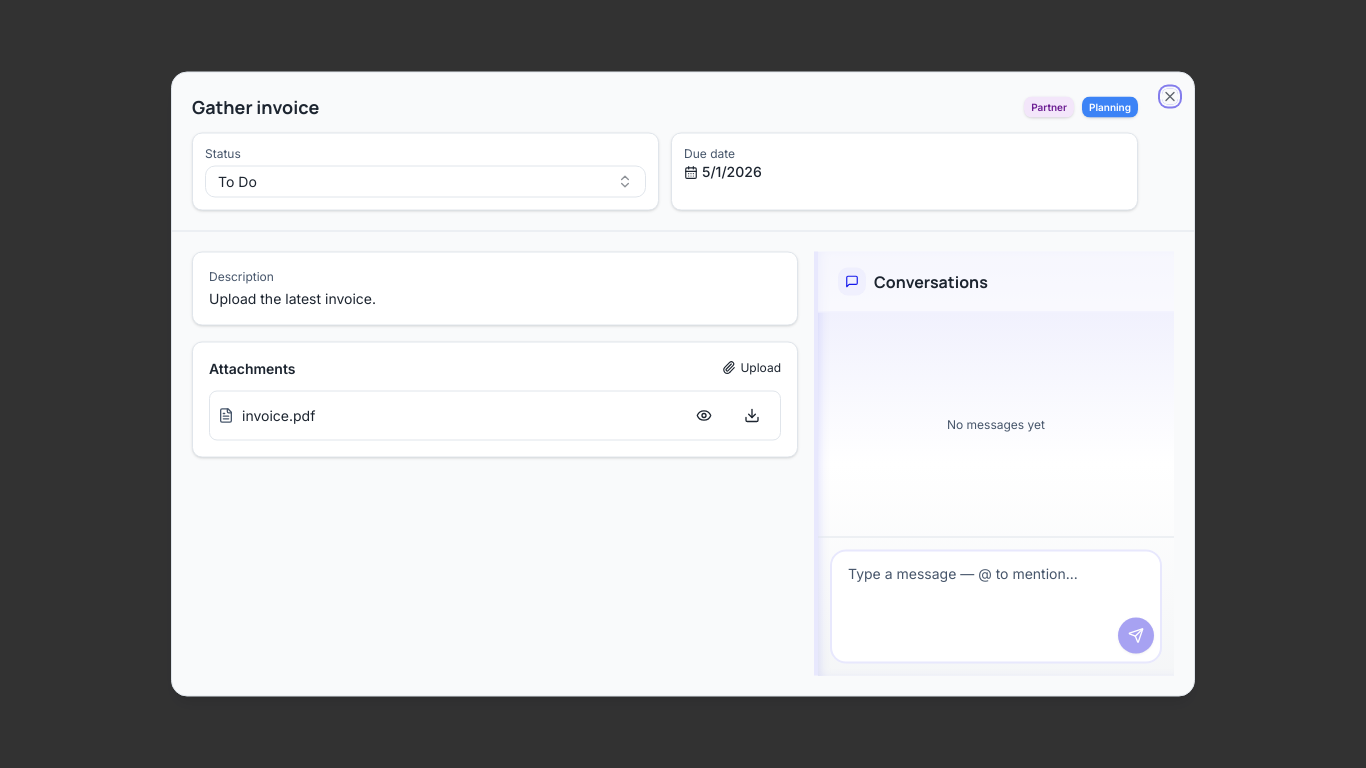
Test: PortalTaskDetailModal › exposes attachment action names and guards download while pending
expect the button named "preview invoice.pdf" is shown: met, box left=684, top=400, right=724, bottom=432
Click the button named "download invoice.pdf". click: (752, 416)
box: left=732, top=400, right=772, bottom=432
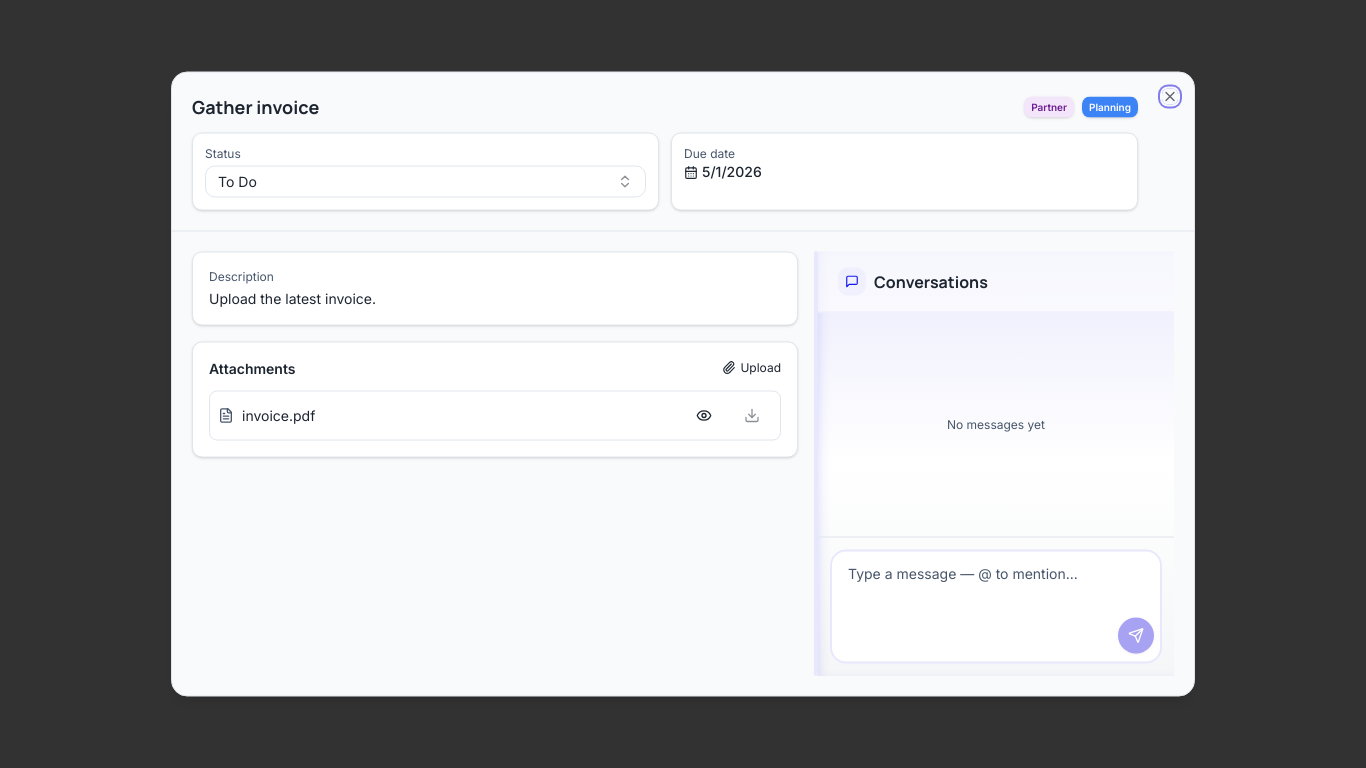
expect the button named "download invoice.pdf" is disabled: met
Click the button named "download invoice.pdf". click: (752, 416)
box: left=732, top=400, right=772, bottom=432
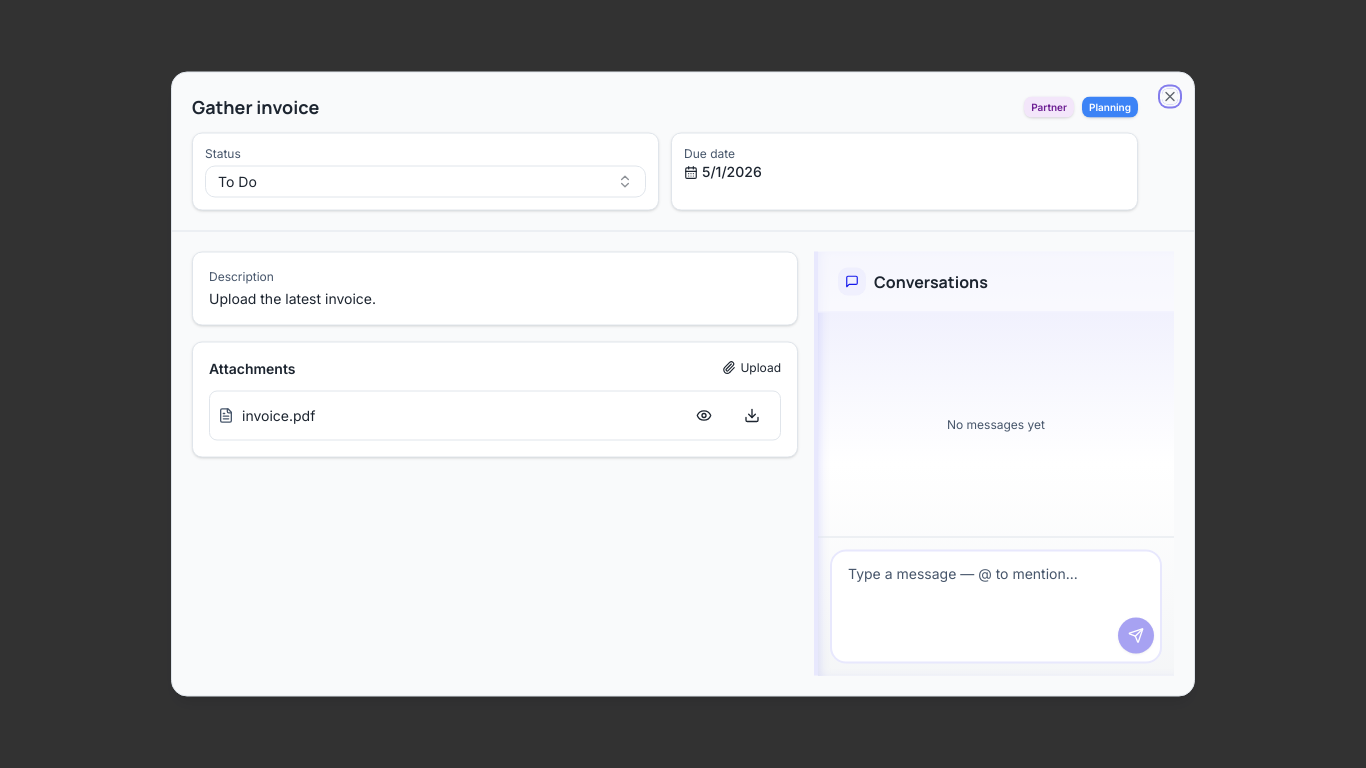
expect the button named "download invoice.pdf" is enabled: met, box left=732, top=400, right=772, bottom=432
